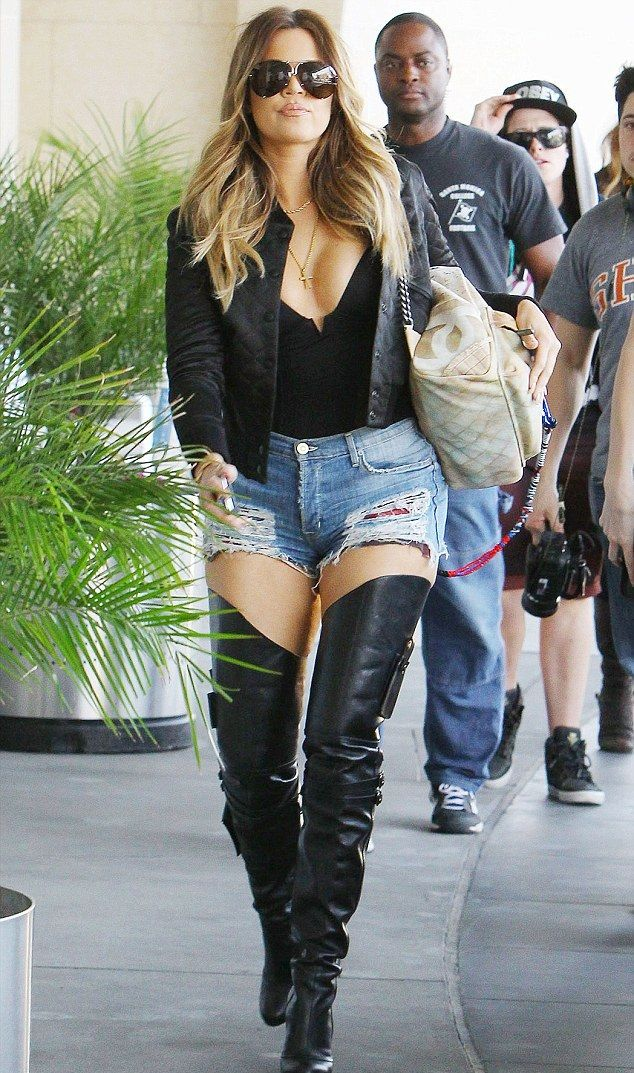Person: (167, 27, 530, 1052)
